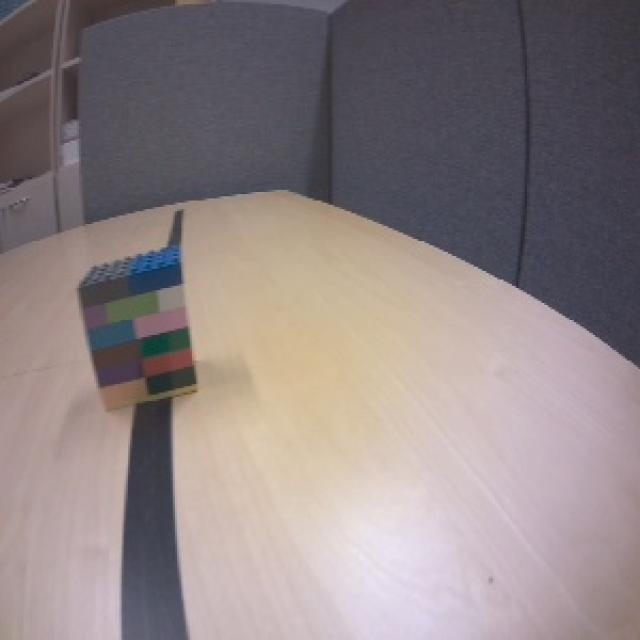obstacle: (74, 240, 200, 414)
